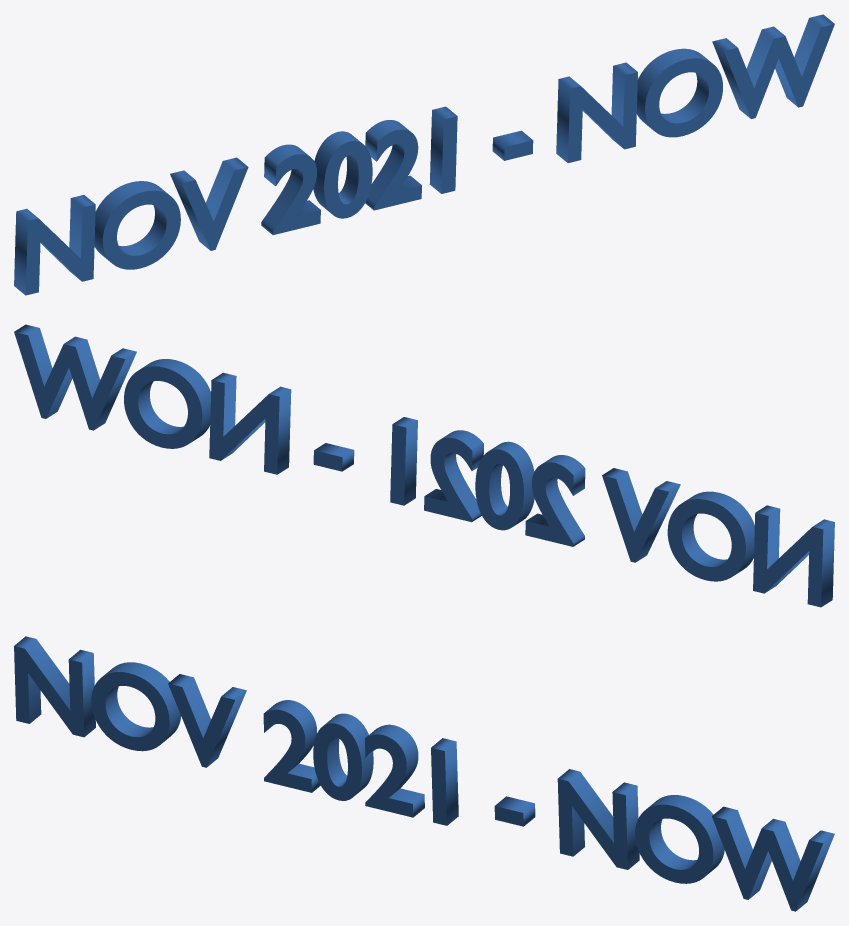
Rendered from nov21.glb.
3 views of the same model, one above another, from view 1: azimuth 30°, elevation 25°; view 2: azimuth 150°, elevation 25°; view 3: azimuth 330°, elevation 25° (orthographic).
Visible parts, largest first — view 1: Text; view 2: Text; view 3: Text.
Part boxes in pixels (<box>): Text: <box>14,14,834,295</box>; Text: <box>14,324,834,607</box>; Text: <box>14,636,834,911</box>.
Bounding box in the file's own units: 7.99 × 0.7497 × 0.2388.
